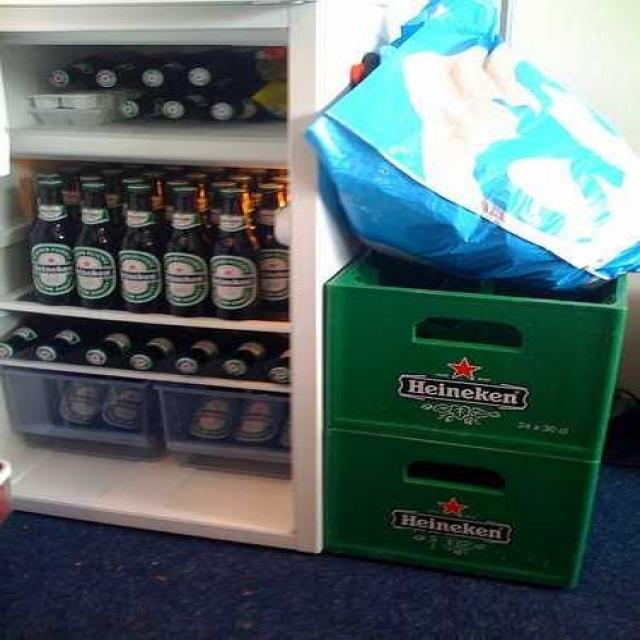refrigerator: (0, 0, 324, 554)
